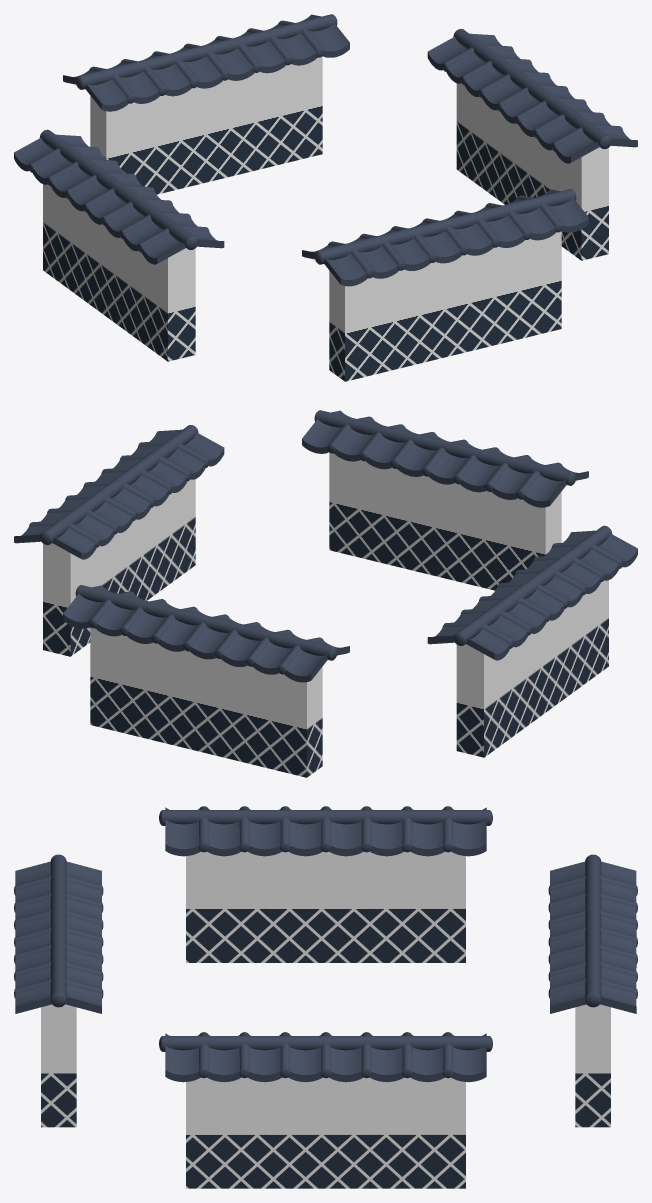
The model's file is fance.fbx.
3 views of the same model, one above another, from view 1: azimuth 30°, elevation 25°; view 2: azimuth 150°, elevation 25°; view 3: azimuth 270°, elevation 25° (orthographic). The views are drawn at different scales.
Visible parts, largest first — view 1: pCube8, pCube9, pCube6, pCube7; view 2: pCube9, pCube8, pCube6, pCube7; view 3: pCube6, pCube7, pCube8, pCube9.
Part boxes in pixels (left/top/right/bottom): pCube8: left=302, top=189, right=588, bottom=381; pCube9: left=63, top=14, right=349, bottom=194; pCube6: left=14, top=129, right=224, bottom=361; pCube7: left=427, top=29, right=637, bottom=260; pCube9: left=63, top=585, right=349, bottom=777; pCube8: left=302, top=410, right=588, bottom=590; pCube6: left=427, top=525, right=637, bottom=757; pCube7: left=14, top=425, right=224, bottom=656; pCube6: left=159, top=806, right=492, bottom=962; pCube7: left=159, top=1032, right=492, bottom=1188; pCube8: left=14, top=854, right=103, bottom=1127; pCube9: left=548, top=854, right=637, bottom=1127.
Bounding box in the file's own units: 1.12 × 1.12 × 0.2866.
Materials: 1 (1 with a texture image).
